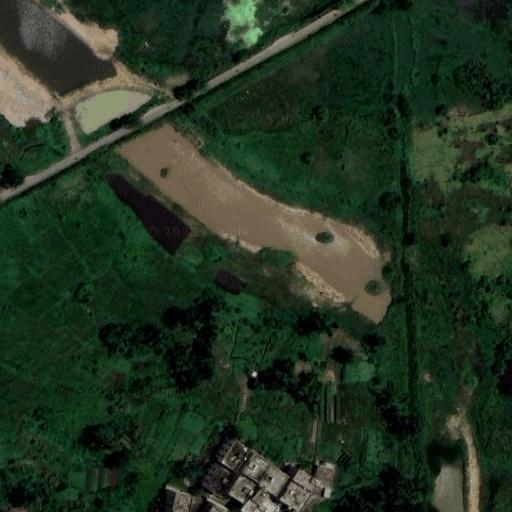building: (254, 461, 285, 494), (238, 486, 277, 512), (199, 461, 229, 494), (278, 480, 309, 510), (238, 450, 267, 480), (215, 437, 242, 466), (224, 475, 251, 503), (290, 467, 317, 490), (311, 464, 332, 486), (165, 490, 185, 512), (202, 501, 229, 512), (223, 471, 234, 485), (324, 487, 331, 497)
